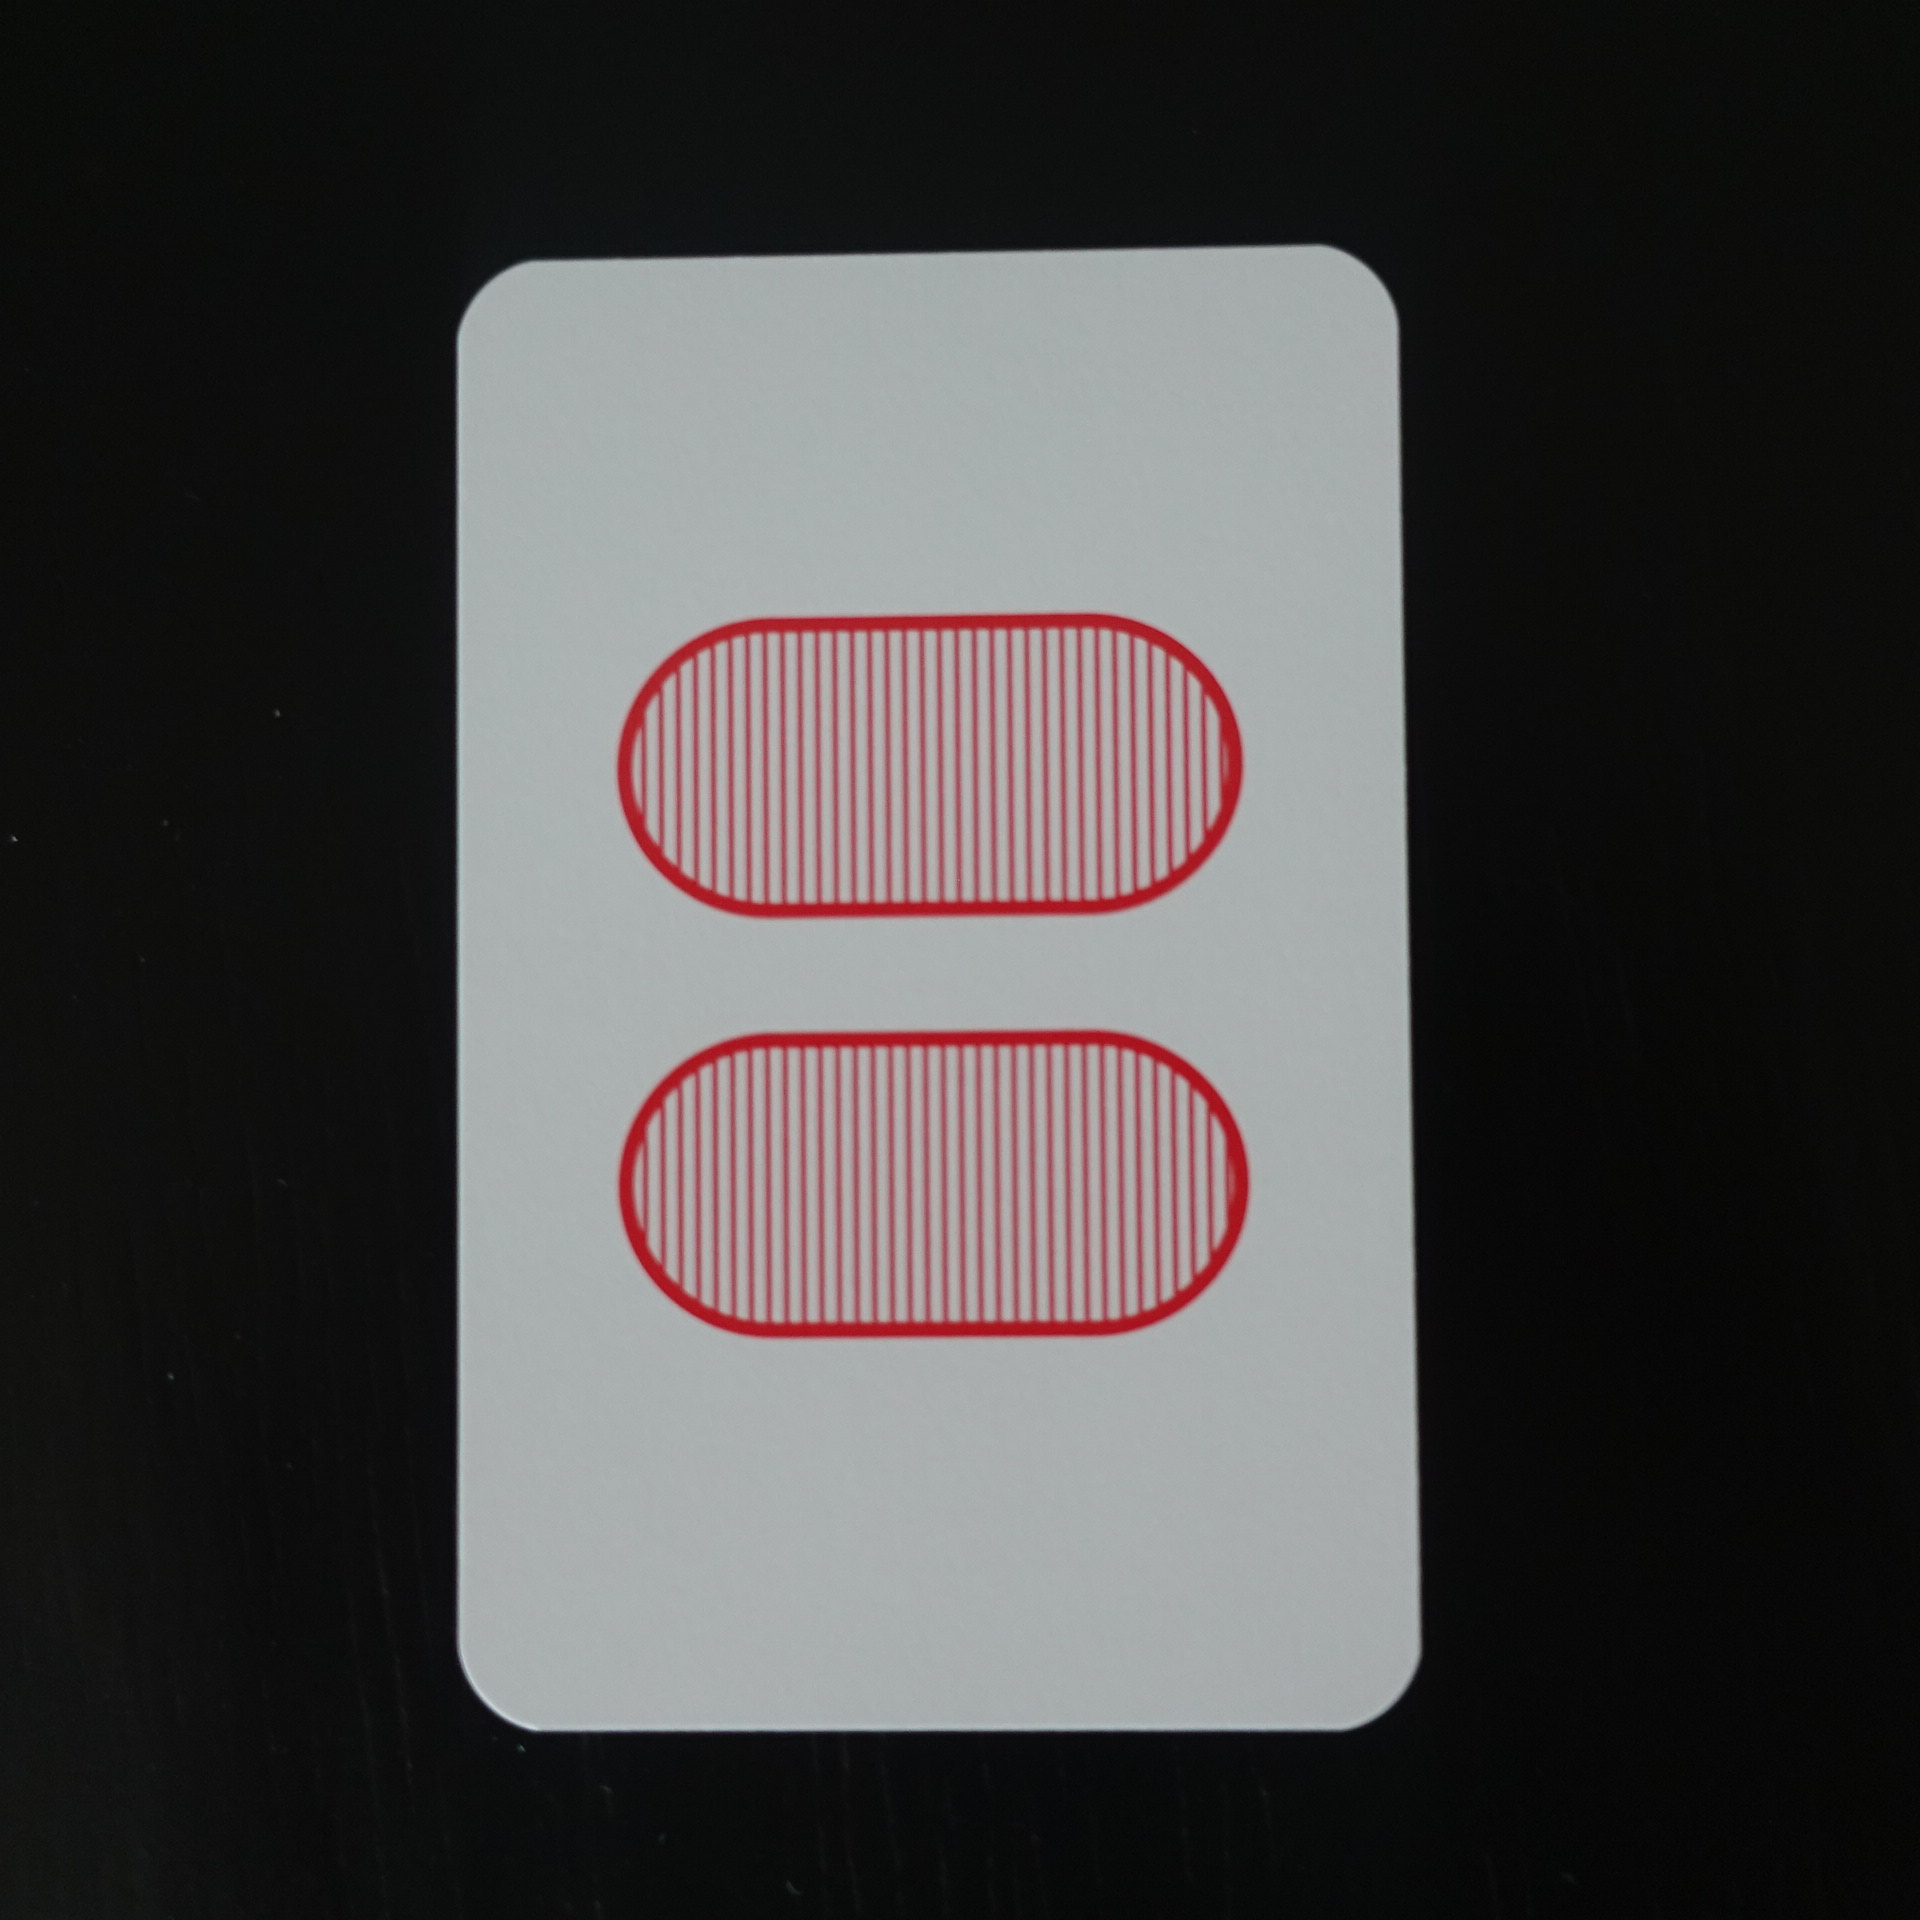c-2-h-o-r: (415, 229, 1449, 1760)
